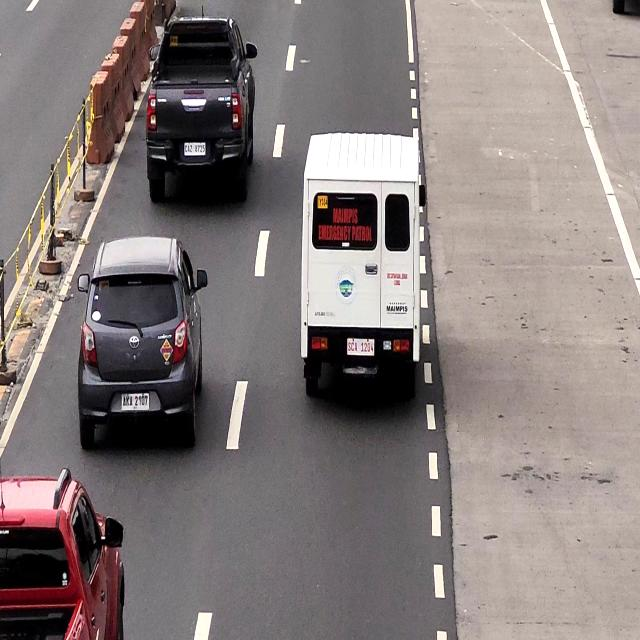Car: (80, 240, 202, 453), (0, 480, 122, 640), (149, 19, 254, 193)
License-Plate: (346, 334, 376, 362), (119, 390, 151, 416), (181, 140, 207, 156)
Truck: (302, 133, 426, 412)
